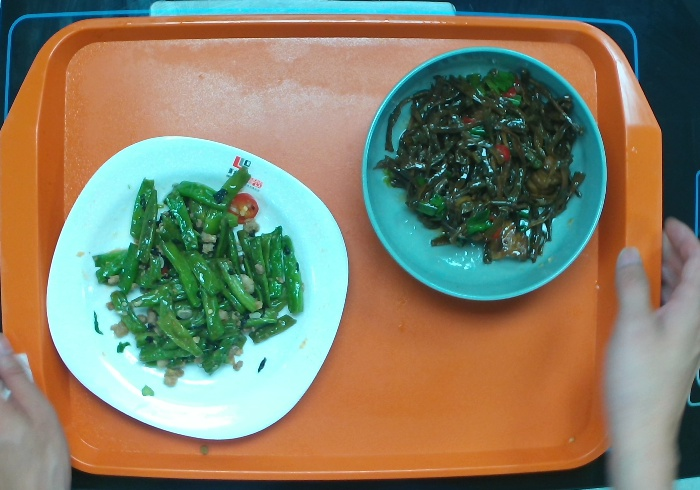ZNLD-Qing_Hua_Yuan_Wan: (359, 44, 610, 303)
ZNLD-Yuan_Jiao_Pan: (45, 134, 351, 441)
